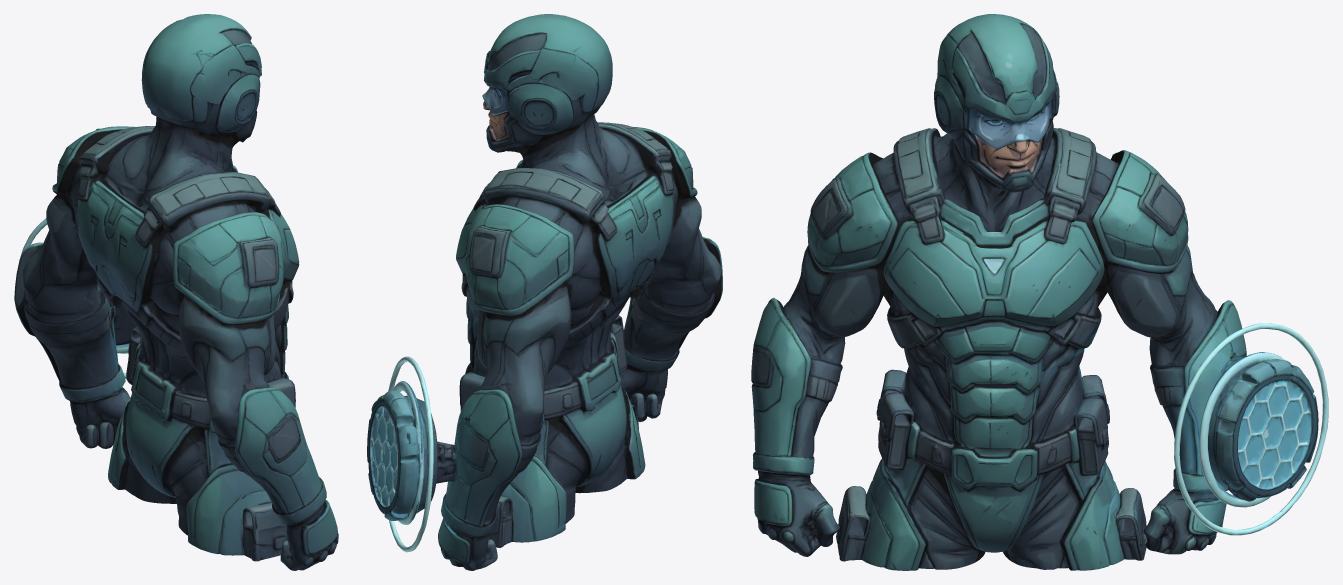
Rendered from vanguard3dskin1.glb.
3 views of the same model, side by side, from view 1: azimuth 30°, elevation 25°; view 2: azimuth 150°, elevation 25°; view 3: azimuth 270°, elevation 25° (orthographic). The views are drawn at different scales.
Parts seen in each view (by area): view 1: tripo_node_249cc837-4378-4031-8325-8e2fec4671d6; view 2: tripo_node_249cc837-4378-4031-8325-8e2fec4671d6; view 3: tripo_node_249cc837-4378-4031-8325-8e2fec4671d6.
Boxes of the visible parts, x1=… form: tripo_node_249cc837-4378-4031-8325-8e2fec4671d6: x1=14, y1=14, x2=338, y2=570; tripo_node_249cc837-4378-4031-8325-8e2fec4671d6: x1=367, y1=14, x2=722, y2=570; tripo_node_249cc837-4378-4031-8325-8e2fec4671d6: x1=751, y1=14, x2=1328, y2=570.
Bounding box in the file's own units: 0.3906 × 1 × 0.9906.
Materials: 1 (1 with a texture image).
